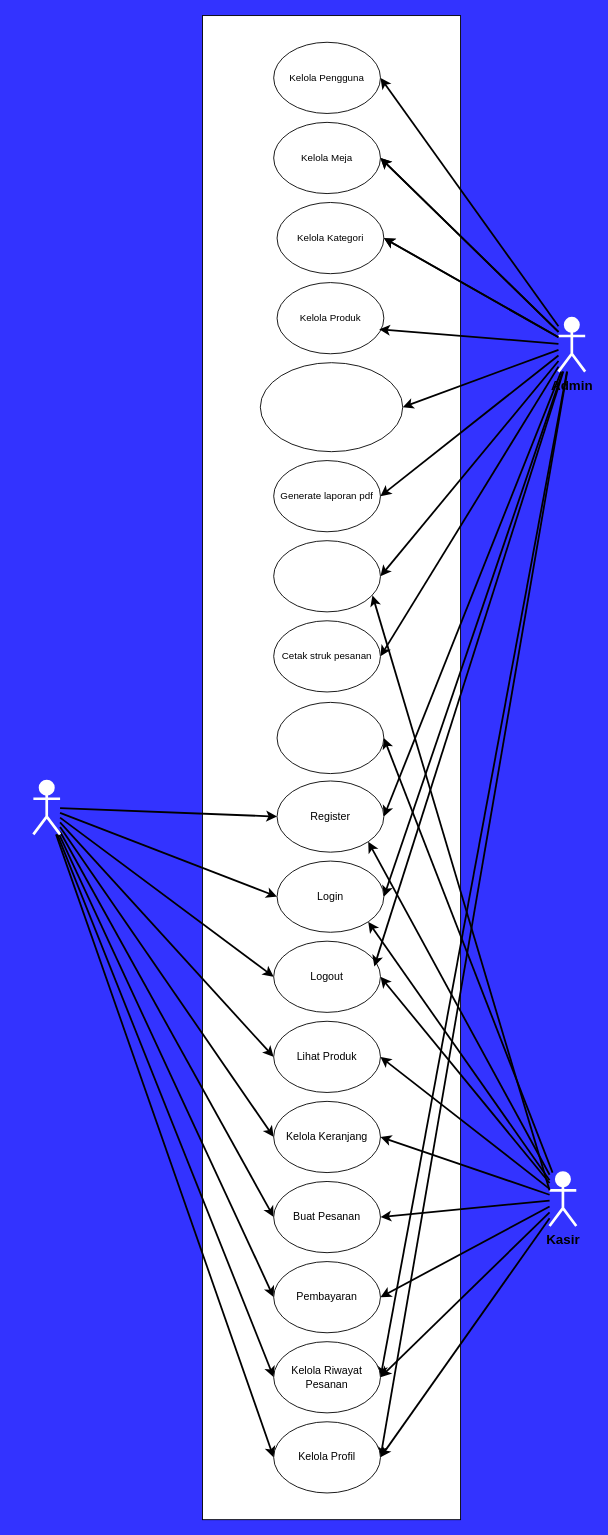
Image size: 608x1535. Some labels were removed from this diagram. Each missing label, with the box of its shape:
Customer: (32, 779, 61, 835)
lihat laporan penjualan: (259, 362, 403, 452)
Lihat Riwayat Pembayaran: (273, 540, 380, 612)
Ubah status meja: (276, 701, 384, 774)
